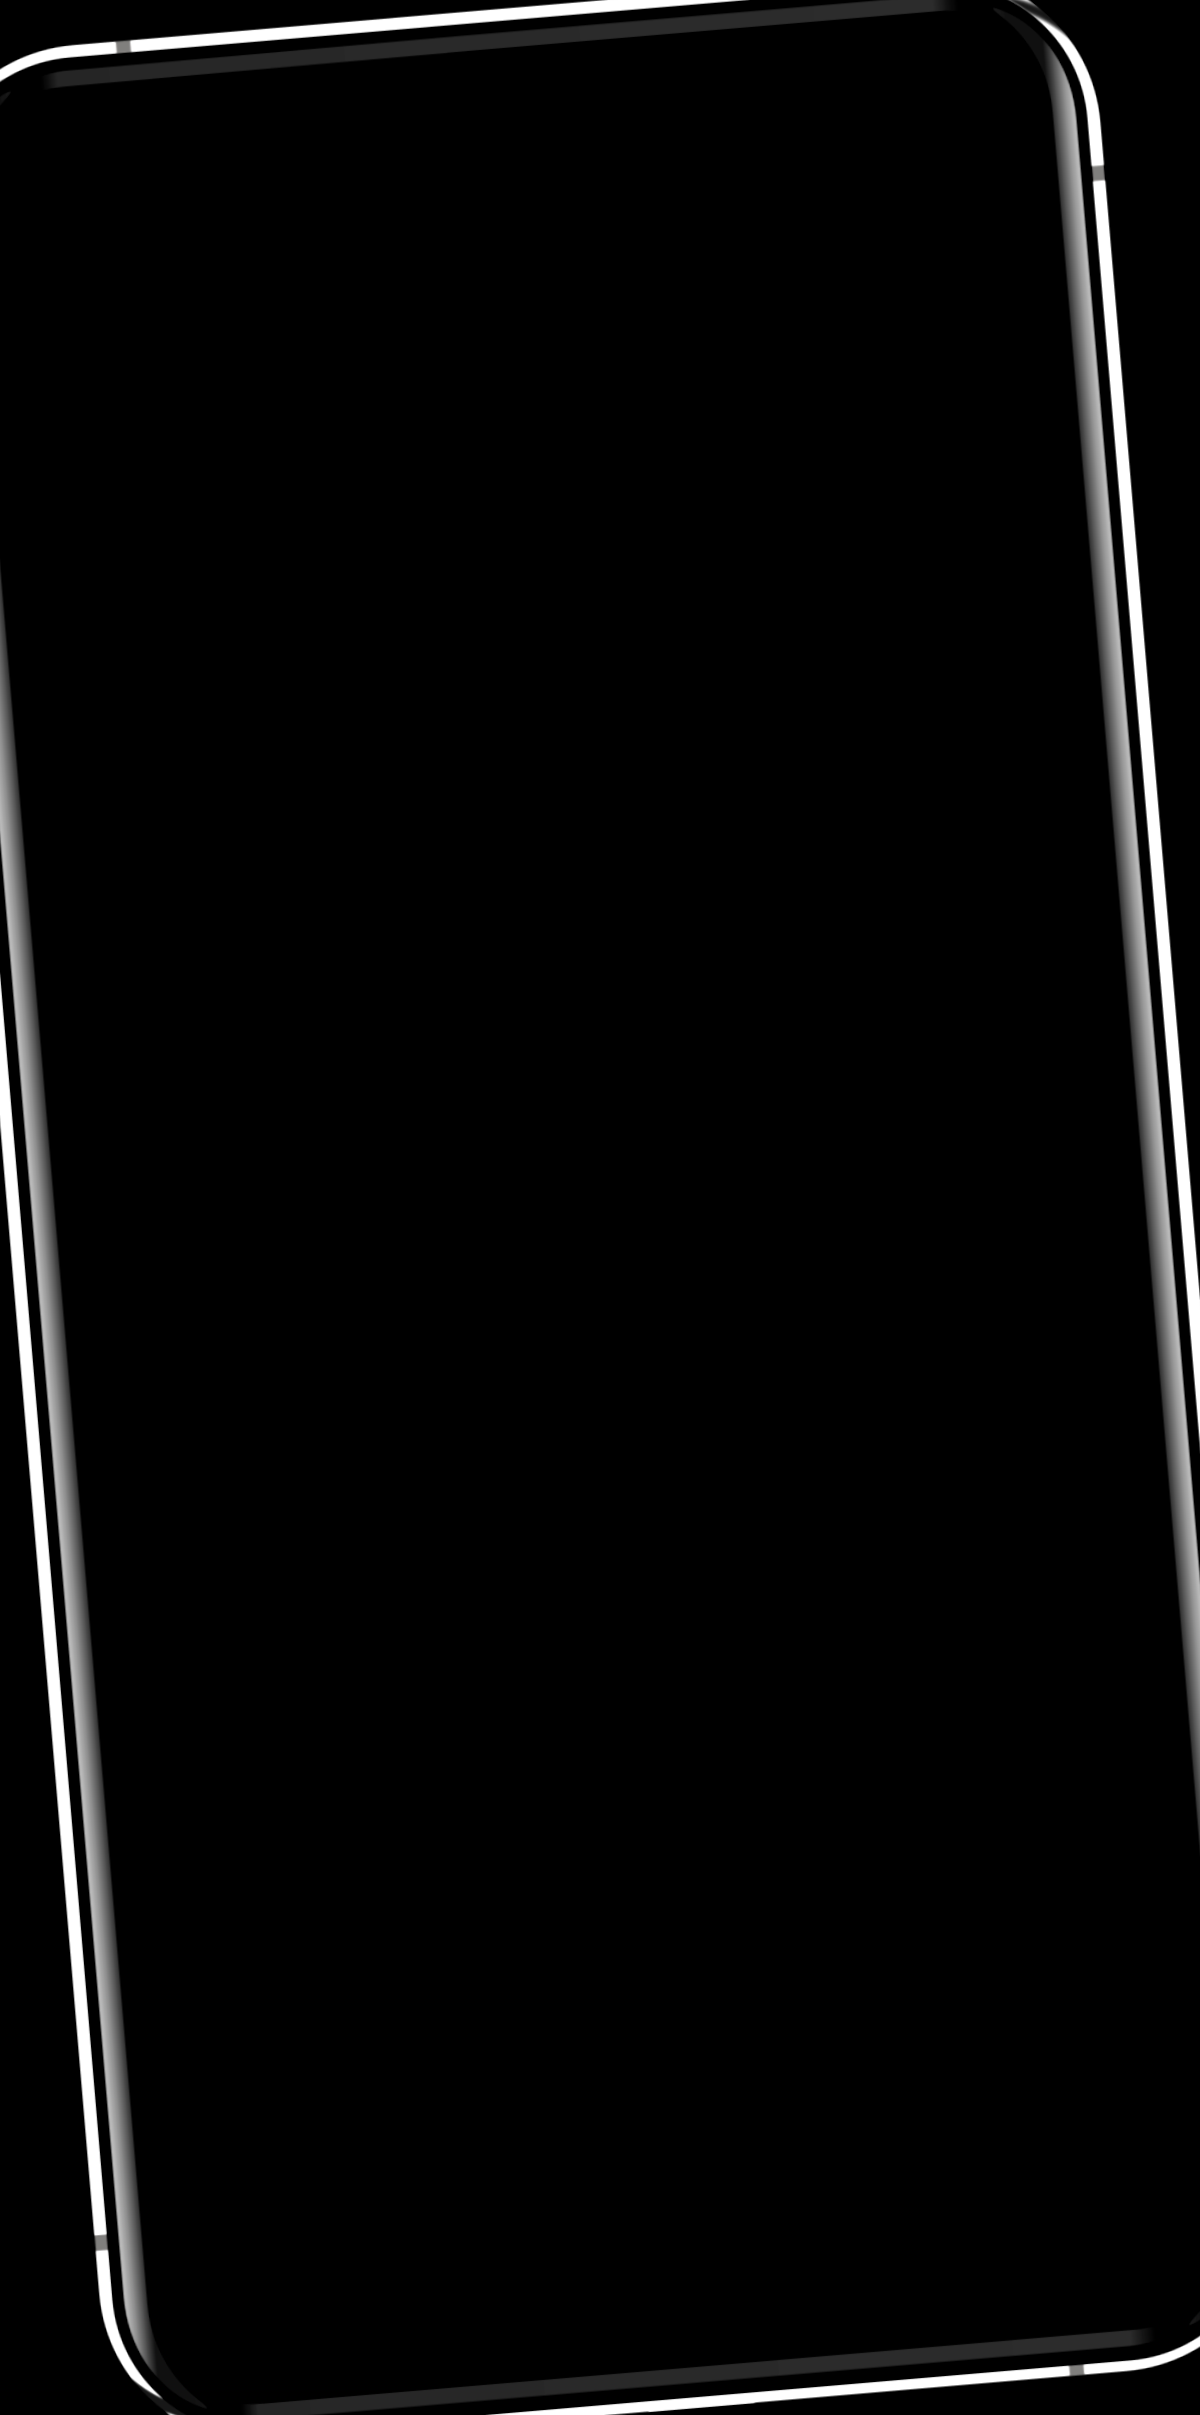iphone: (3, 8, 1200, 2415)
